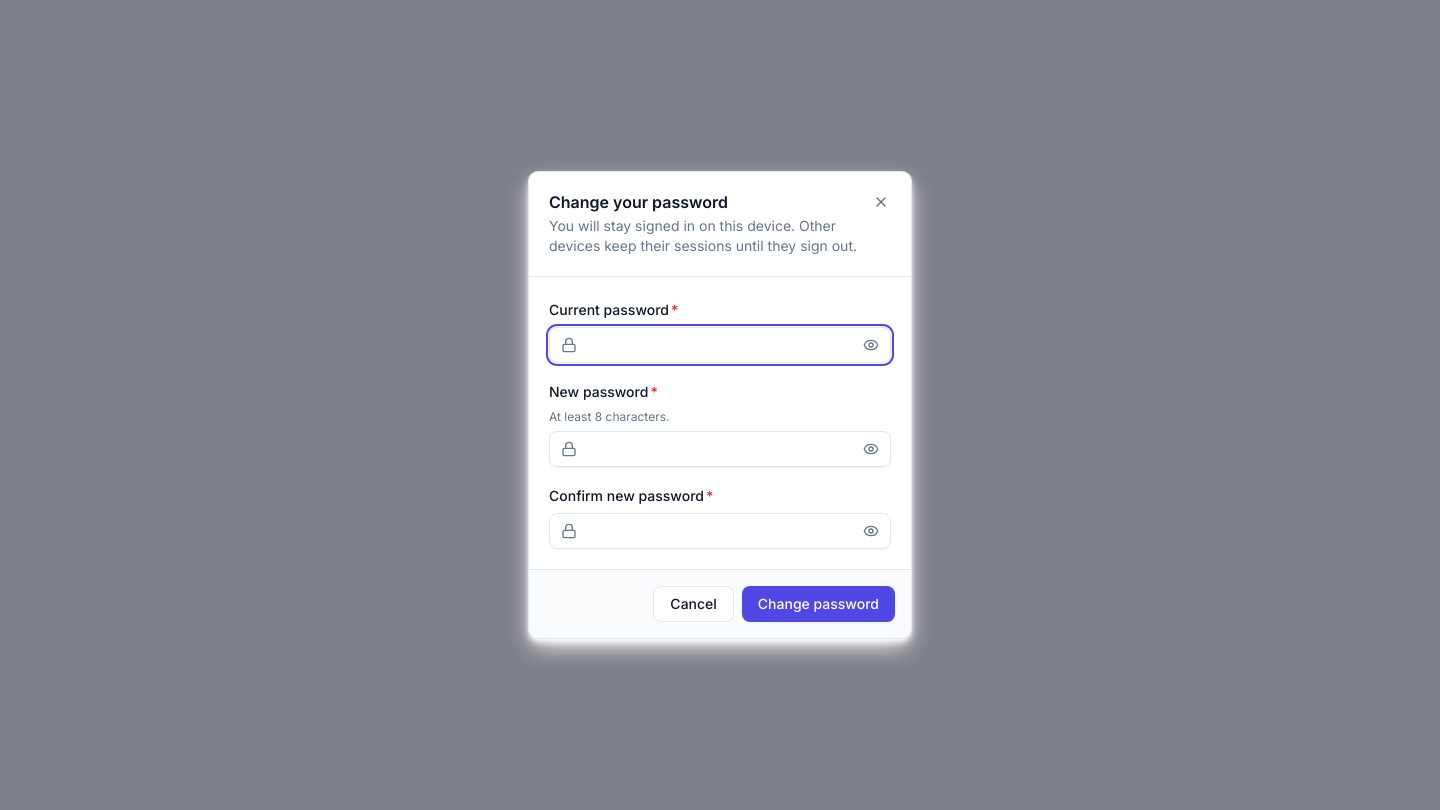
Test: ChangePasswordDialog › will not submit when the confirmation does not match
Type "Kq7!vbnm2xZa" into the password field labelled "Current password*" at (720, 345), box [549,327,891,363]
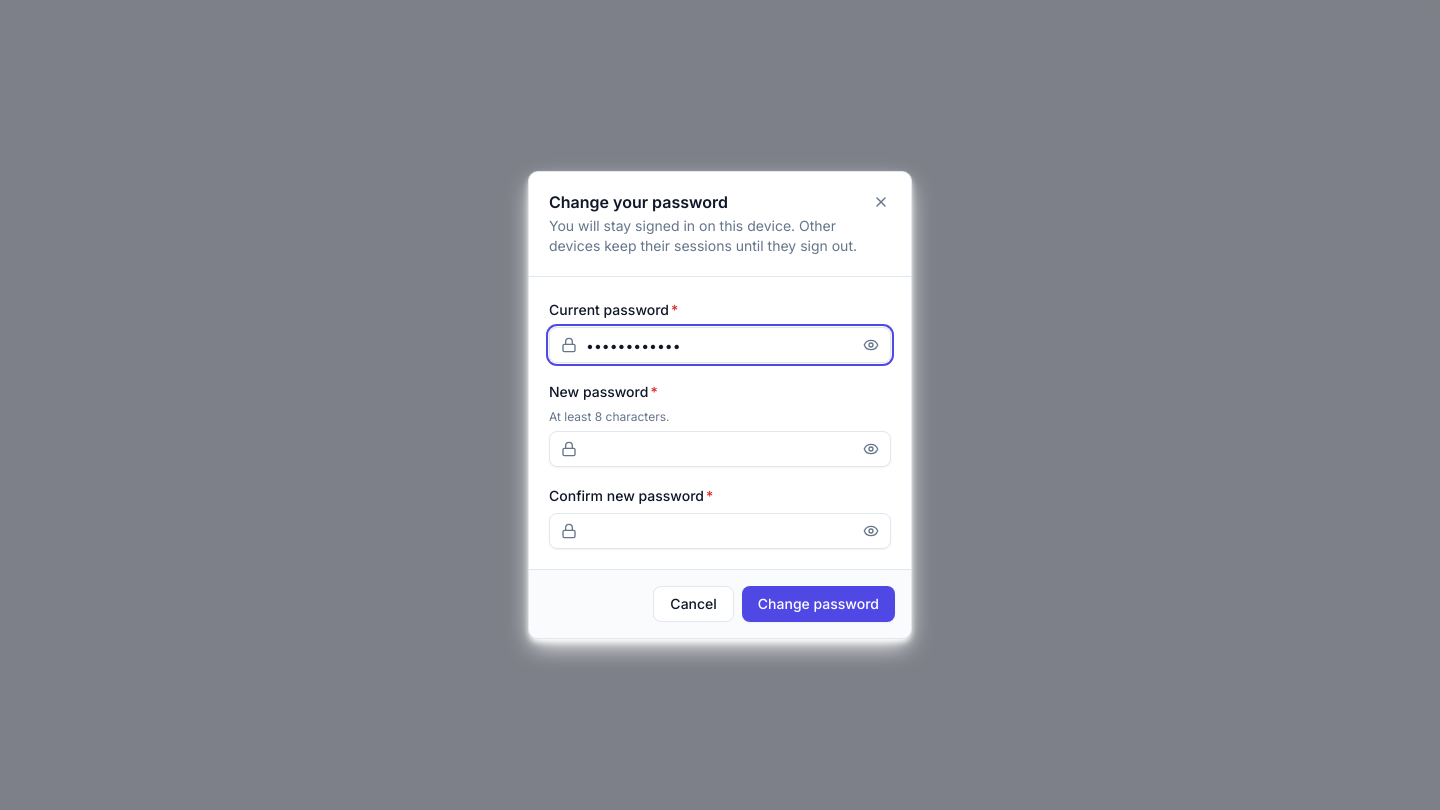
Type "a-longer-phrase-2026" into the password field labelled "New password*" at (720, 449), box [549,431,891,467]
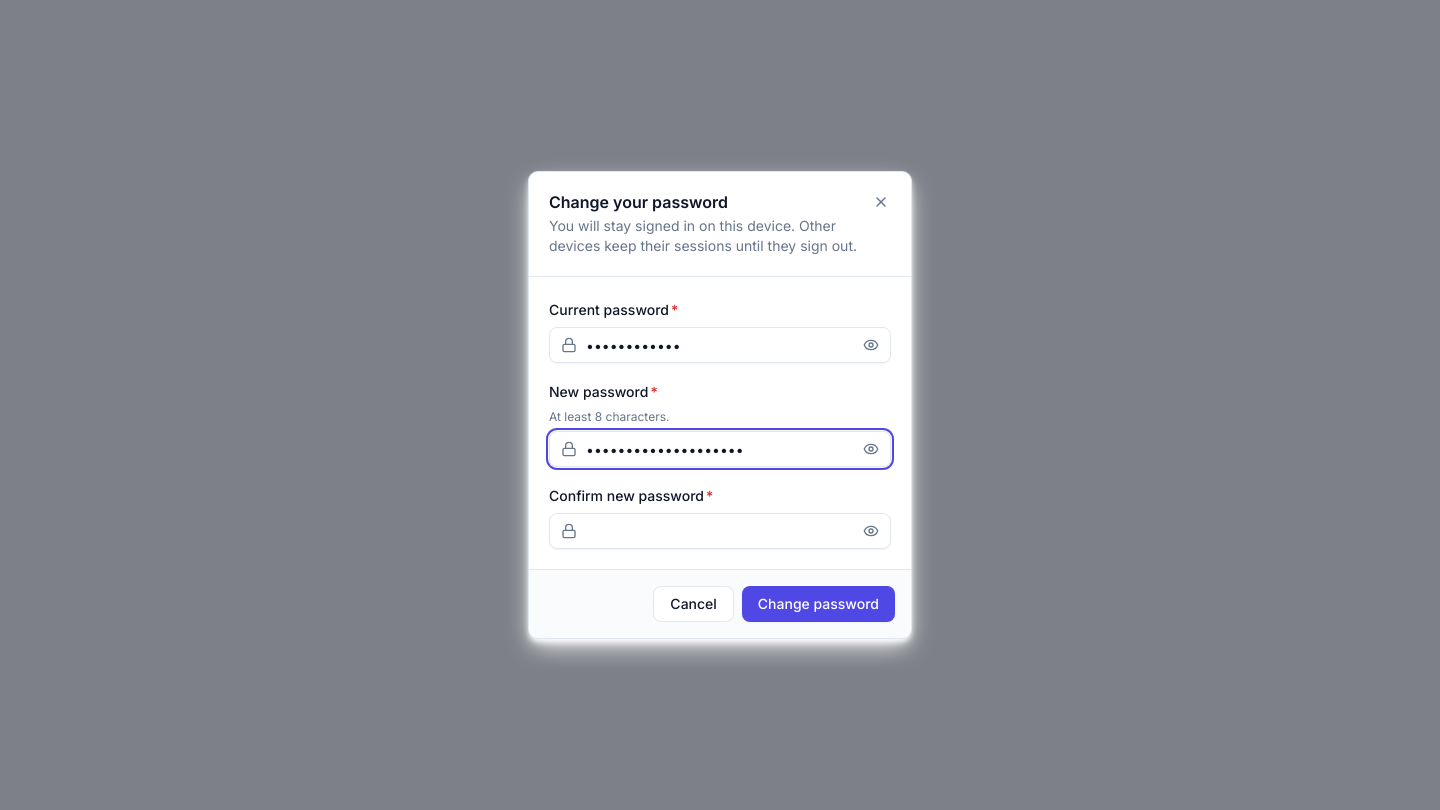
Type "a-longer-phrase-2027" into the password field labelled "Confirm new password*" at (720, 531), box [549,513,891,549]
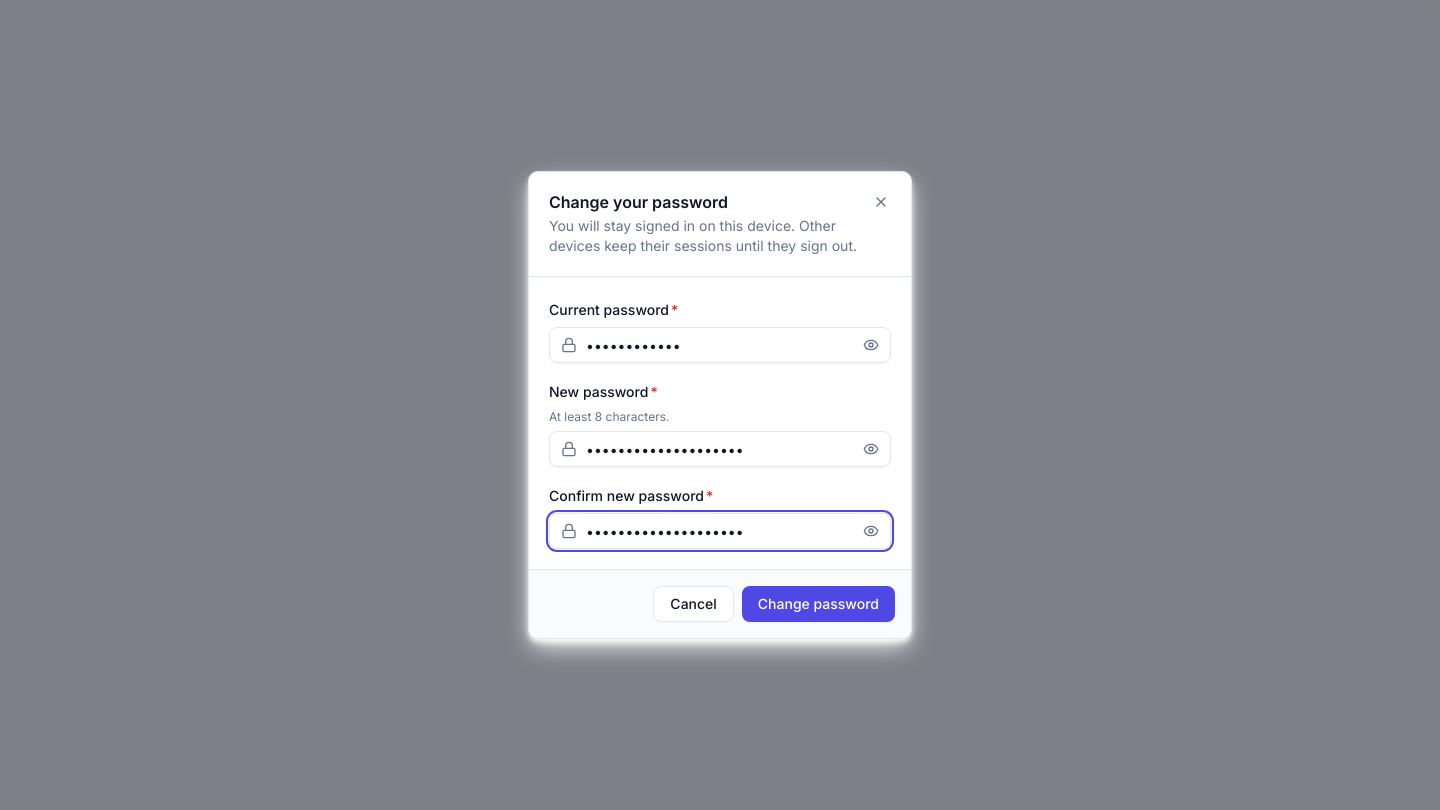
Click the button "Change password" at (818, 604), box [742,586,895,622]
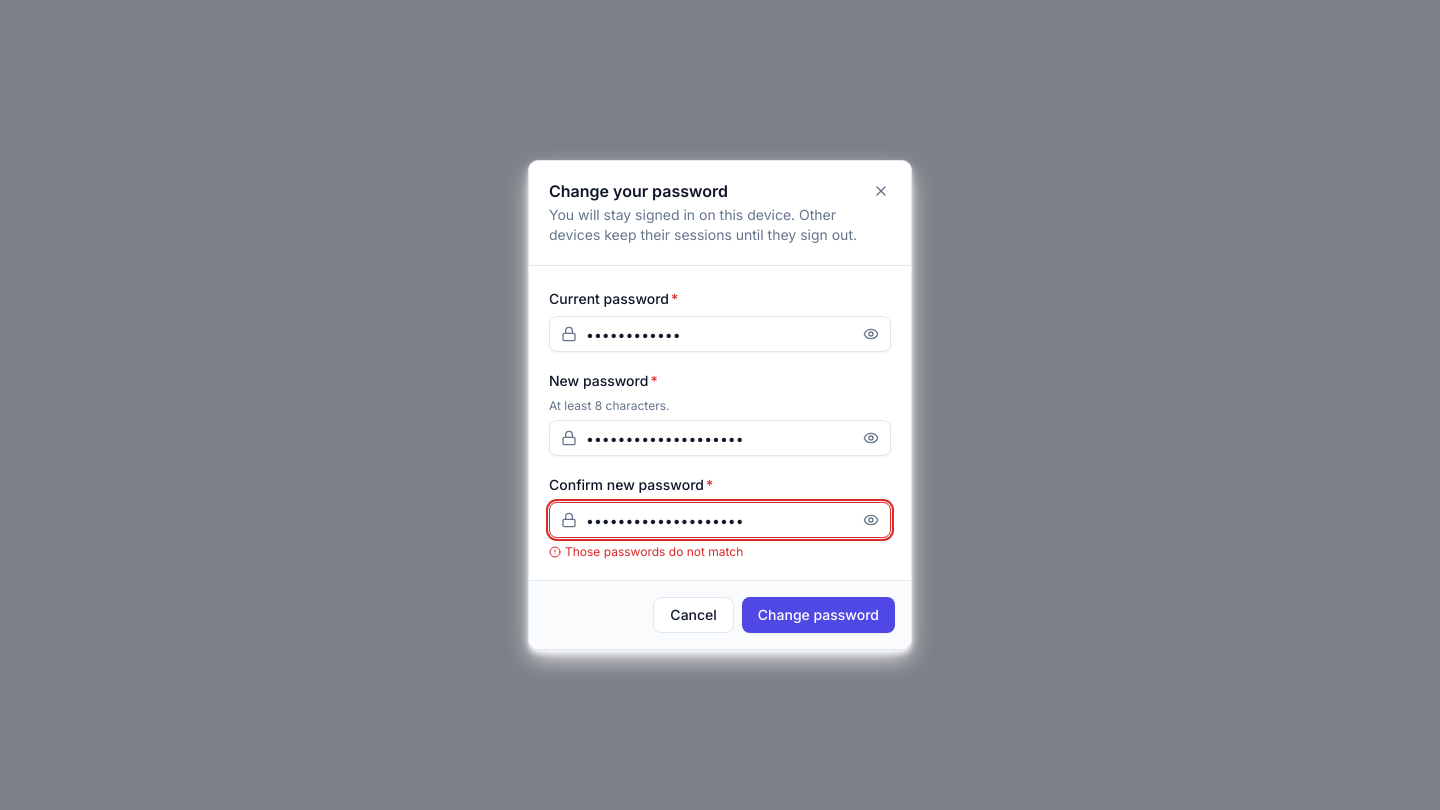
Expected: the text "Those passwords do not match" is shown, [549,544,743,559]
